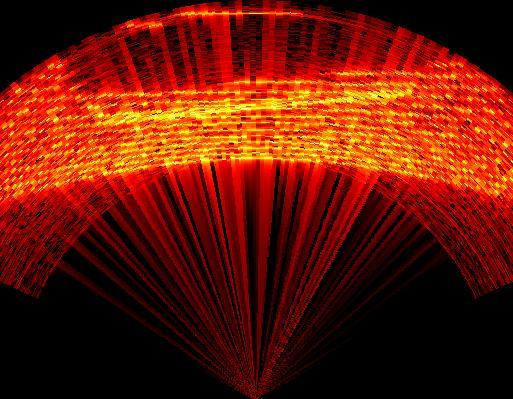pipe: (58, 12, 458, 127)
